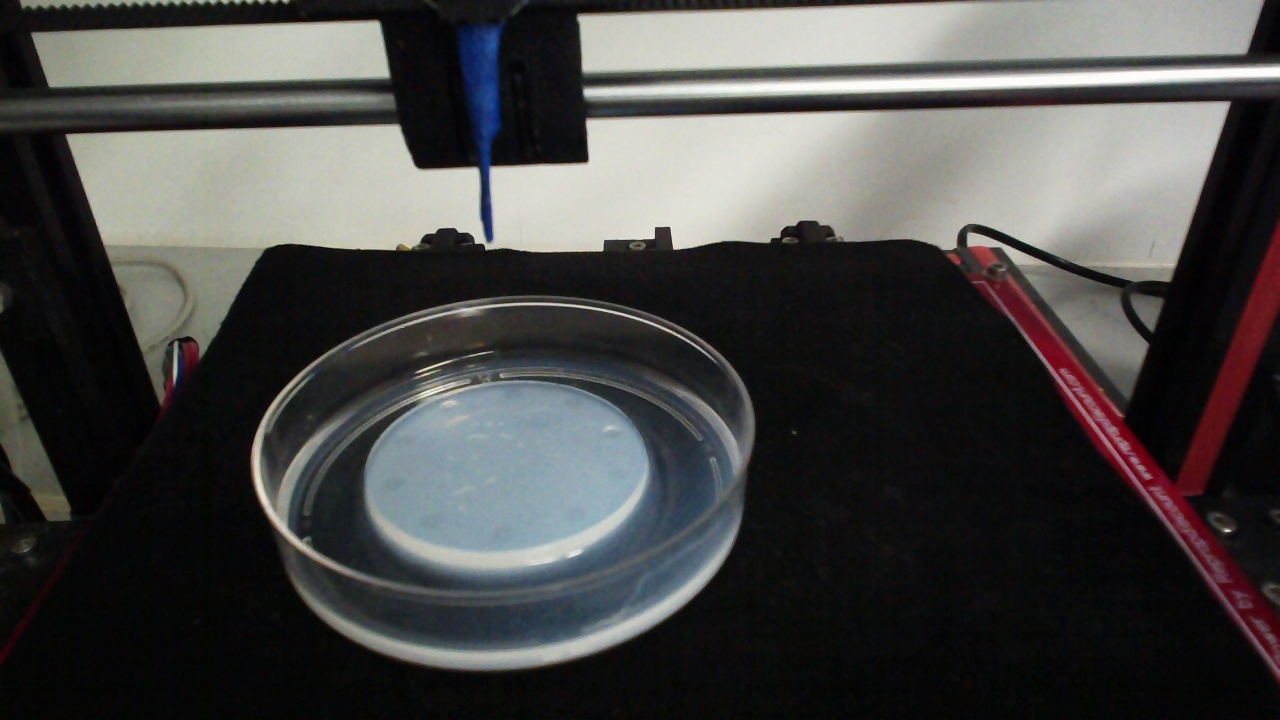groove: (486, 521, 516, 543), (379, 472, 405, 496), (415, 510, 445, 530), (560, 503, 587, 524), (392, 429, 418, 449), (499, 384, 526, 401), (598, 423, 622, 442), (606, 466, 628, 483), (438, 396, 457, 414), (562, 395, 586, 409)
needle: (457, 34, 499, 240)
